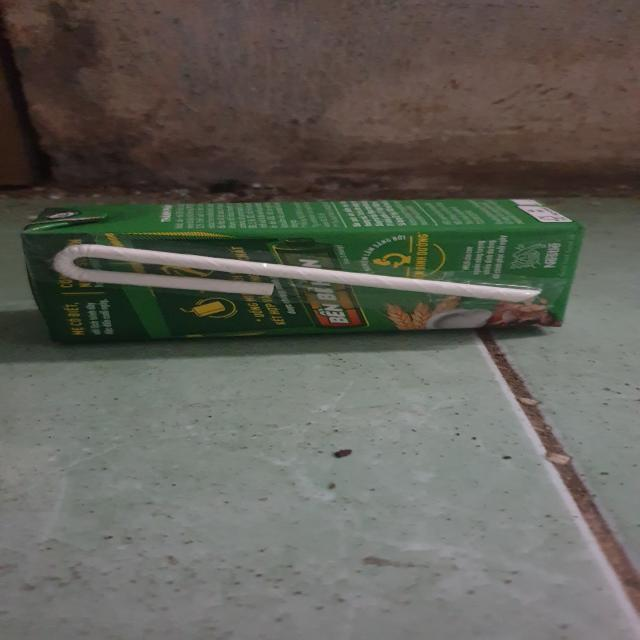Milo: (12, 196, 587, 352)
